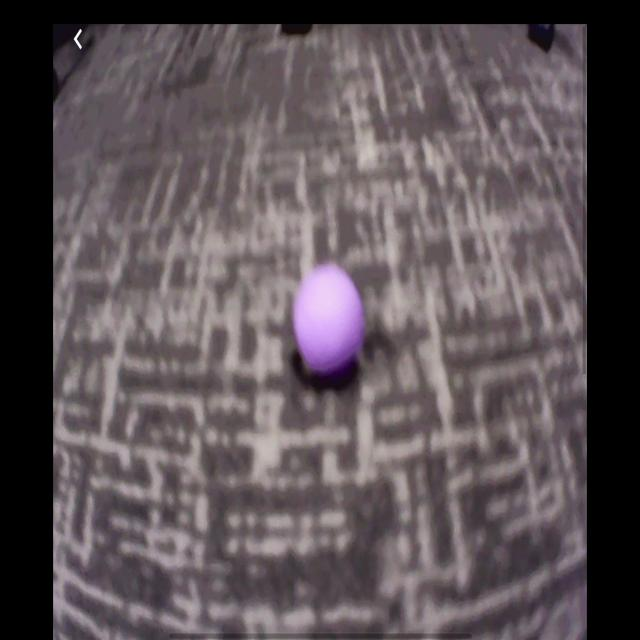ball: (291, 260, 366, 377)
